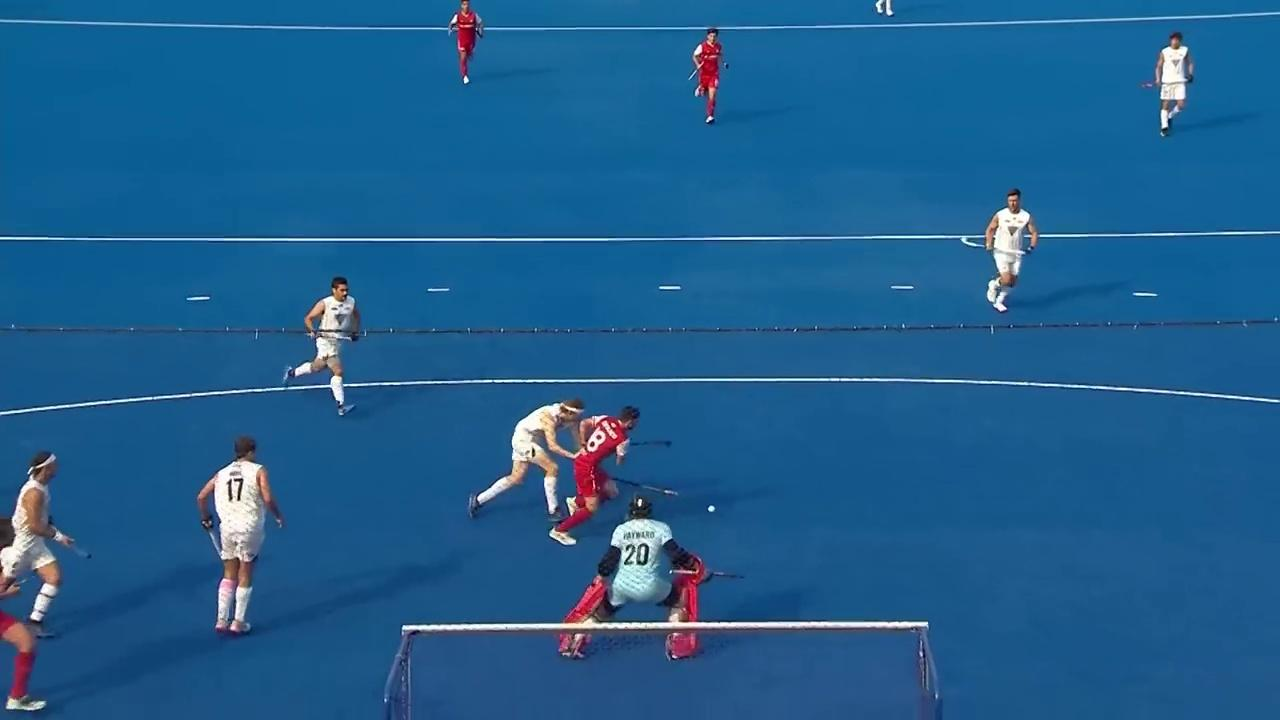ball: (702, 501, 726, 519)
